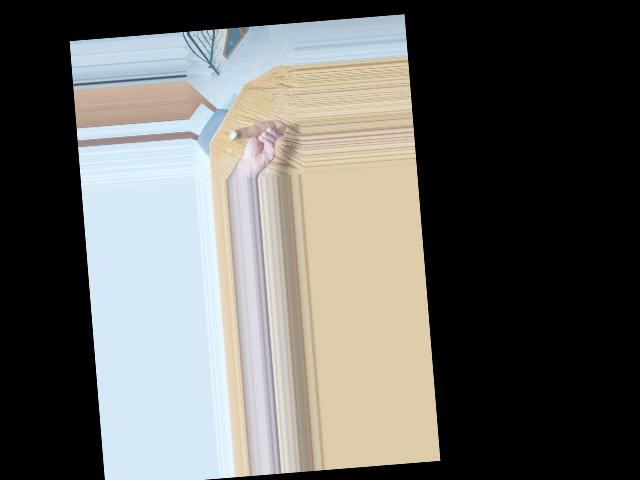sweet_potato: (230, 117, 287, 146)
